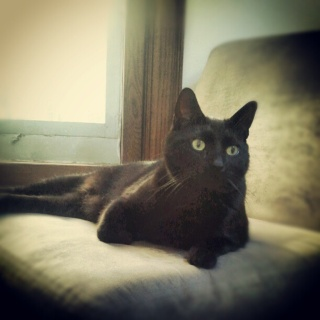Cat: (0, 87, 257, 270)
